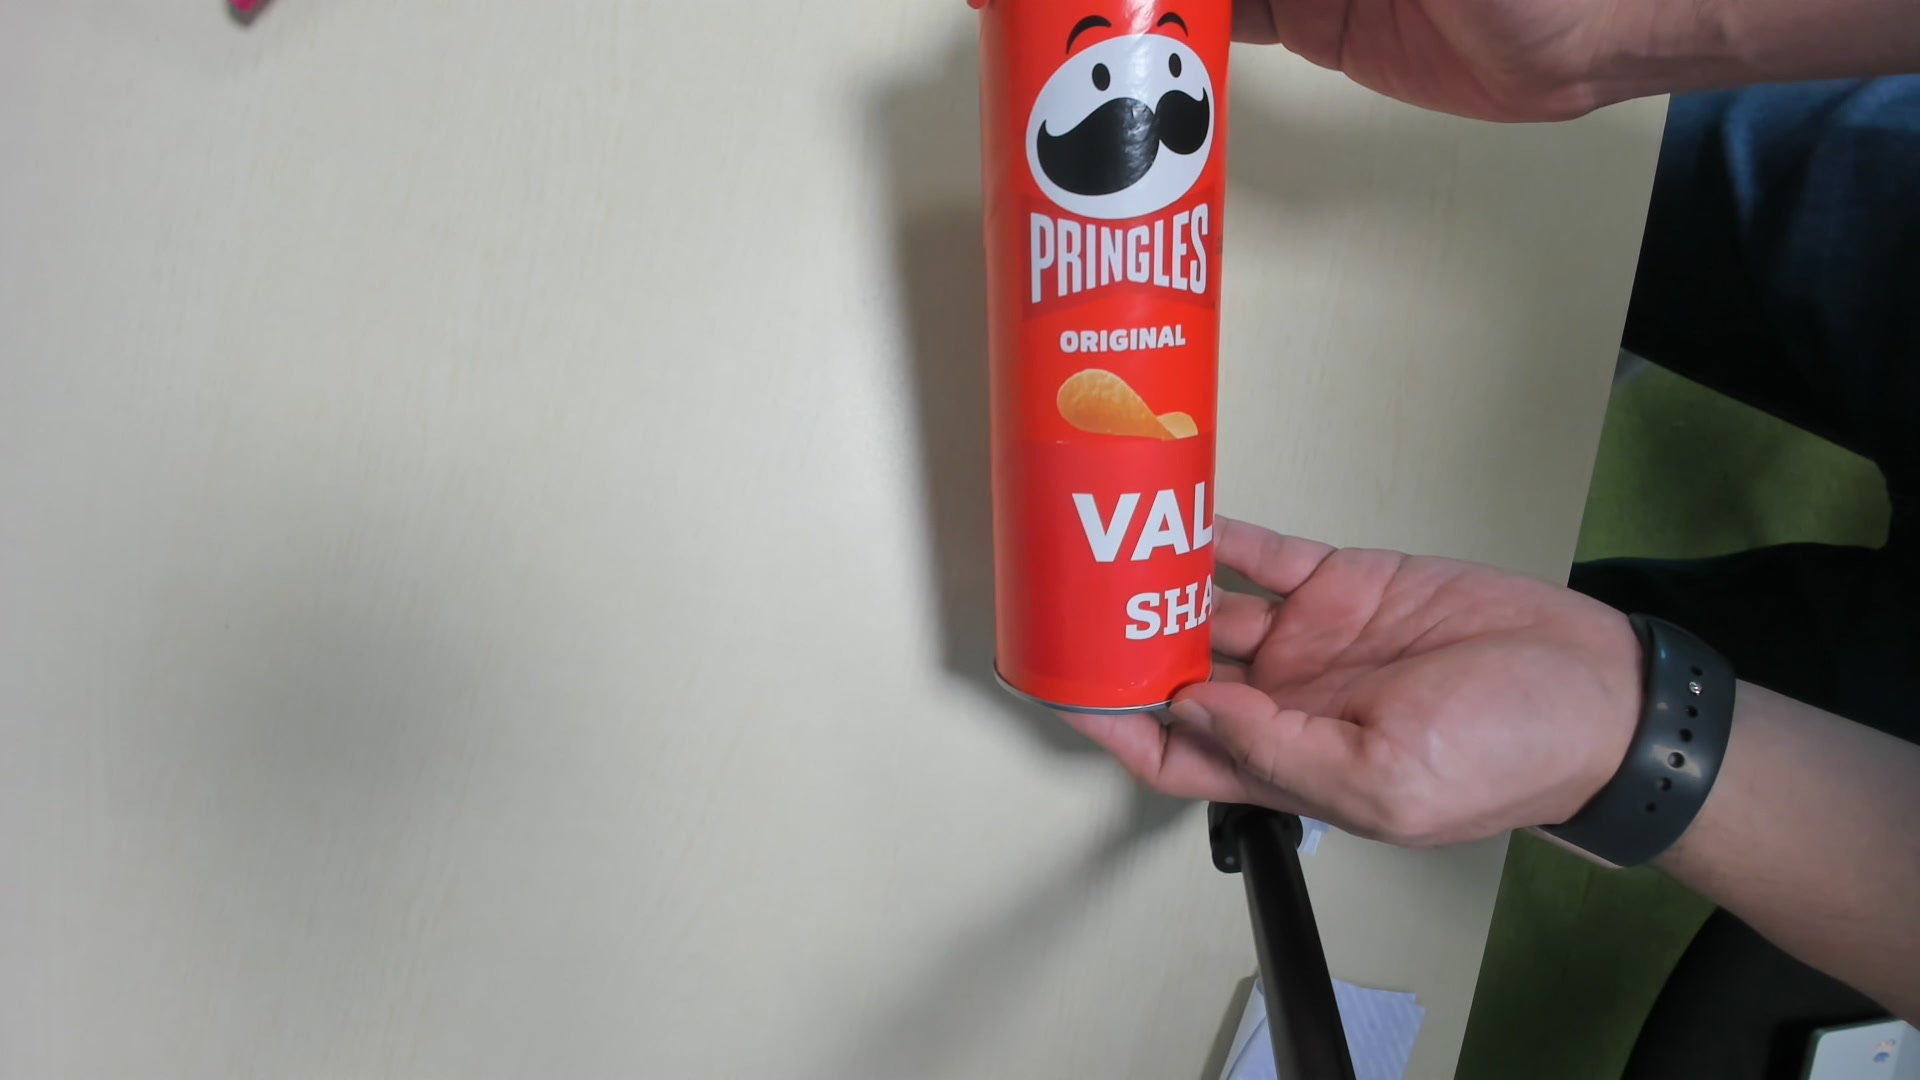PotatoChipsKeropok_100-199g_NonHalal_NonHealthy: (967, 1, 1246, 713)
